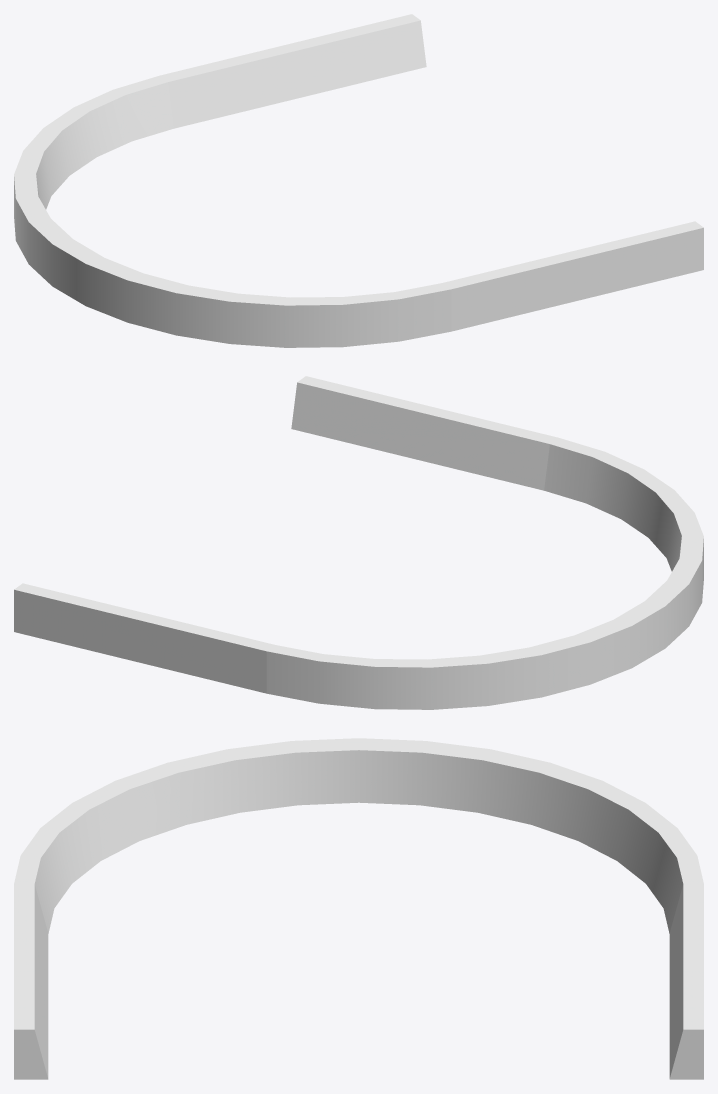
The model's file is road-end-round-barrier.glb.
3 renders of one model, top to bottom at view 1: azimuth 30°, elevation 25°; view 2: azimuth 150°, elevation 25°; view 3: azimuth 270°, elevation 25°, orthographic. The views are drawn at different scales.
Parts seen in each view (by area): view 1: road-end-round-barrier; view 2: road-end-round-barrier; view 3: road-end-round-barrier.
Boxes of the visible parts, x1=… form: road-end-round-barrier: x1=14, y1=14, x2=703, y2=347; road-end-round-barrier: x1=14, y1=376, x2=703, y2=709; road-end-round-barrier: x1=14, y1=738, x2=703, y2=1079.
Size of the model in its own units: 1 by 0.08 by 1.
1 material, 1 textured.
